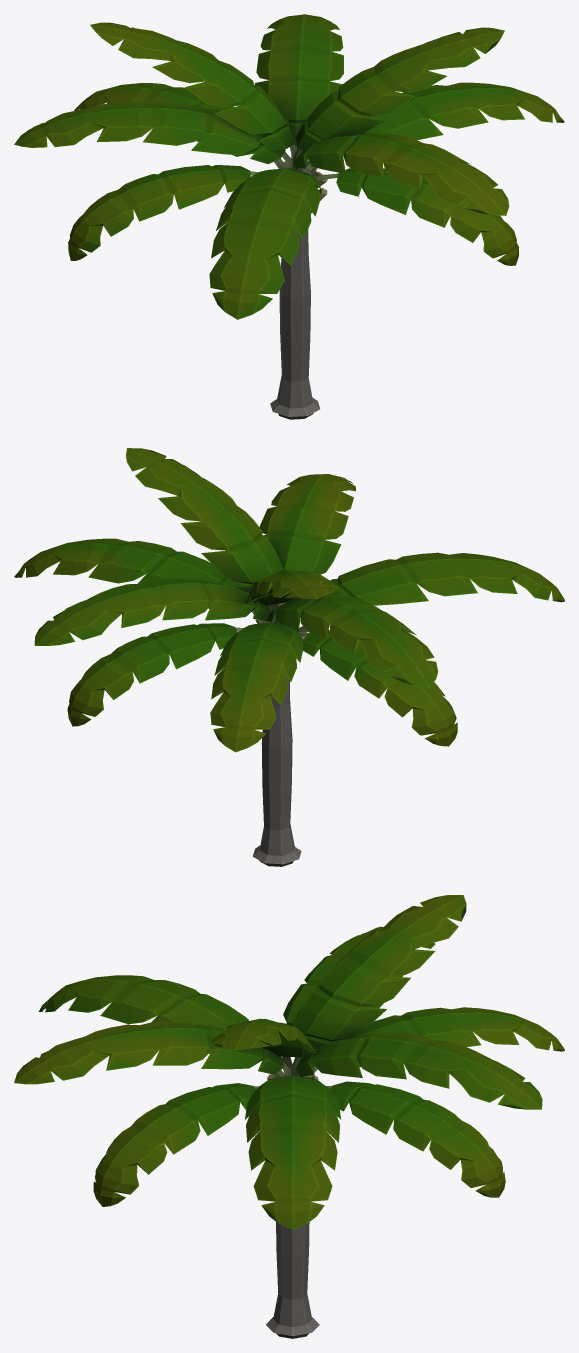
File: palm.glb
The picture shows the model from 3 angles, top to bottom: view 1: azimuth 30°, elevation 25°; view 2: azimuth 150°, elevation 25°; view 3: azimuth 270°, elevation 25°; orthographic projection. The views are drawn at different scales.
Parts seen in each view (by area): view 1: node-0; view 2: node-0; view 3: node-0.
Boxes of the visible parts, x1,y1,x2,y2 form: node-0: [14, 14, 564, 419]; node-0: [14, 448, 564, 866]; node-0: [14, 895, 564, 1338].
Size of the model in its own units: 10.7 by 7.51 by 10.06.
Materials: 1 (1 with a texture image).
